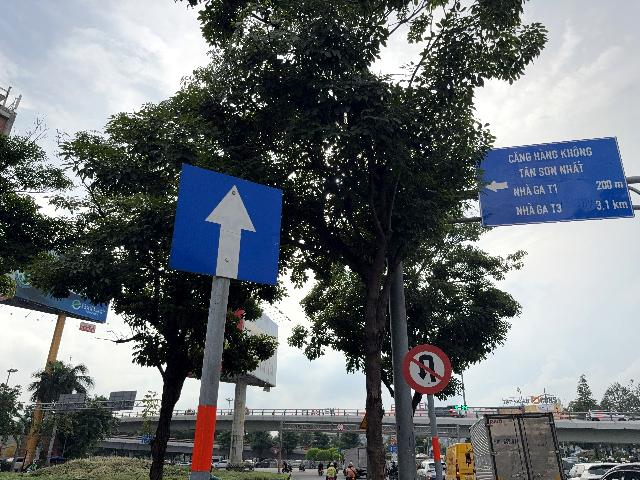cam-quay-dau-xe: (402, 343, 452, 395)
duong-mot-chieu: (167, 162, 283, 286)
